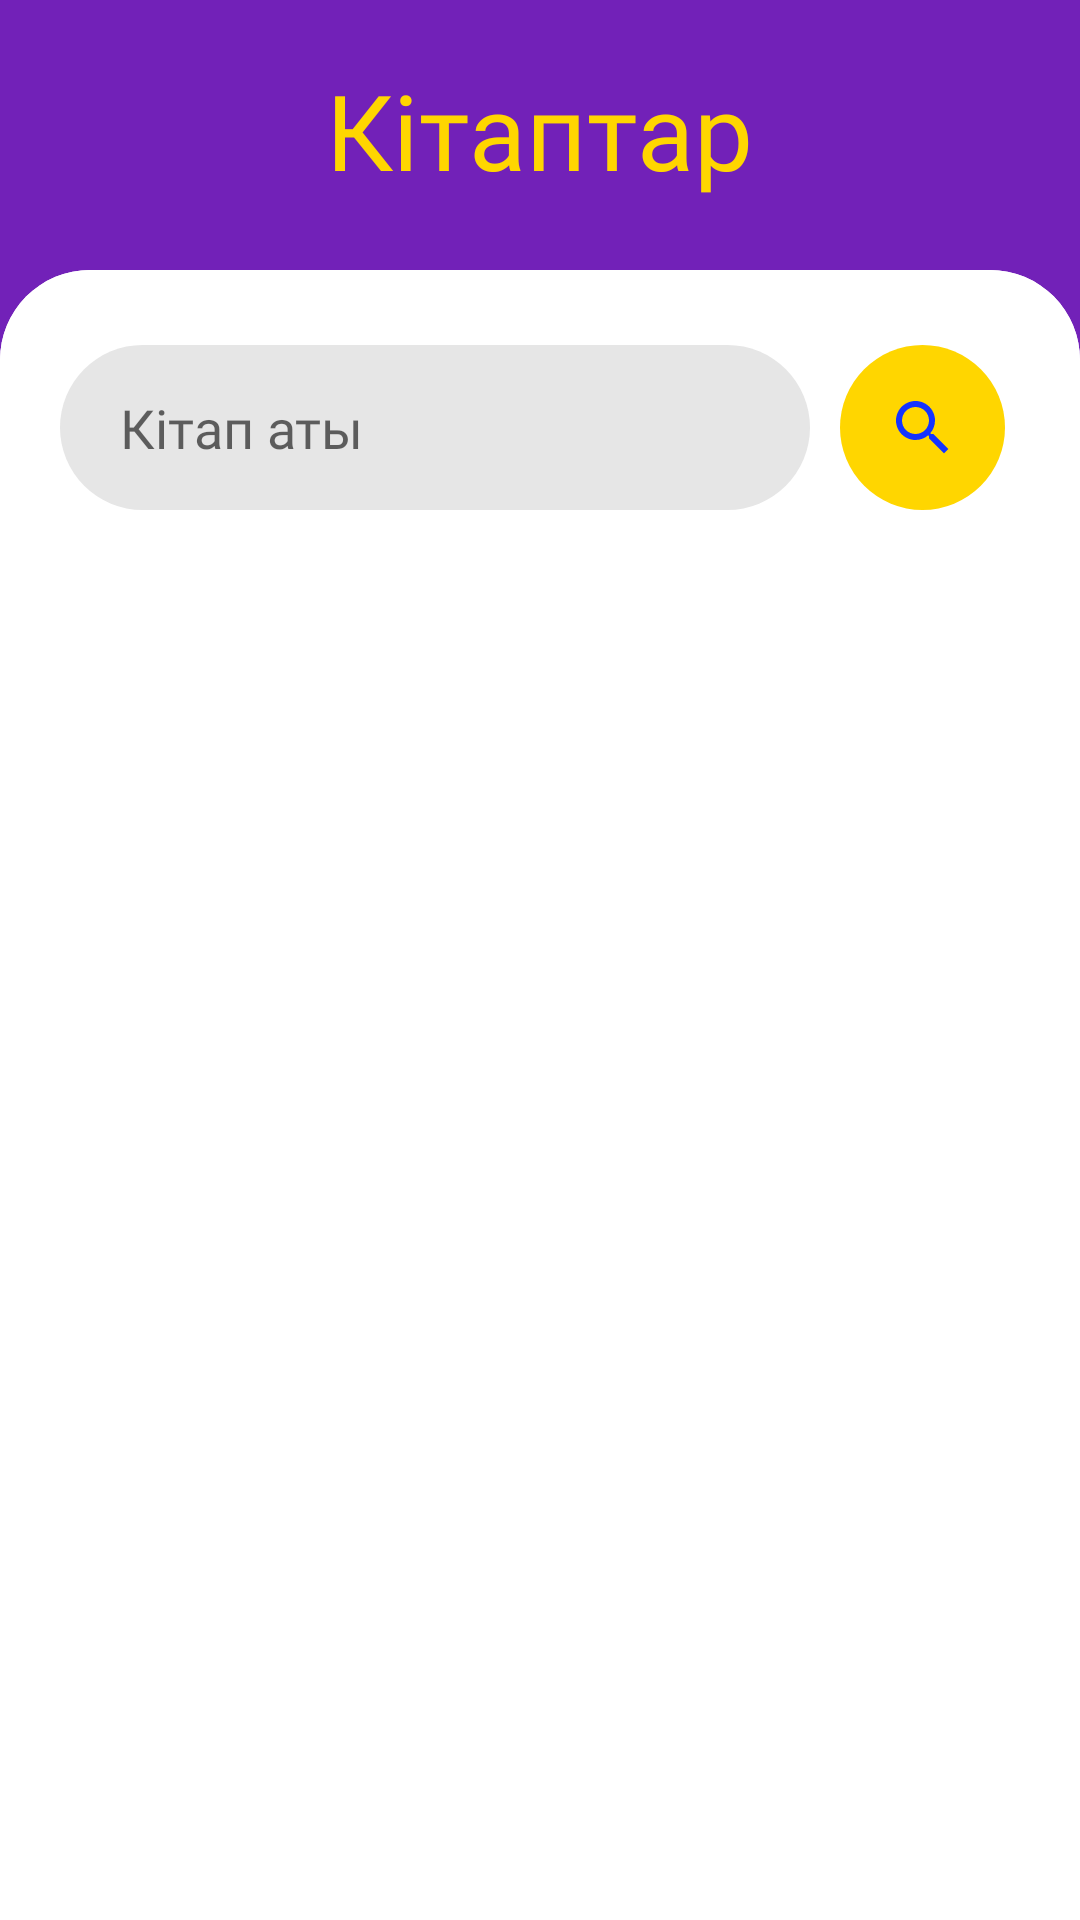

Screen size 1080px×1920px. Icon name, then its box in pixels as (x1, y1, x2, y2):
search: (840, 345, 1005, 510)
